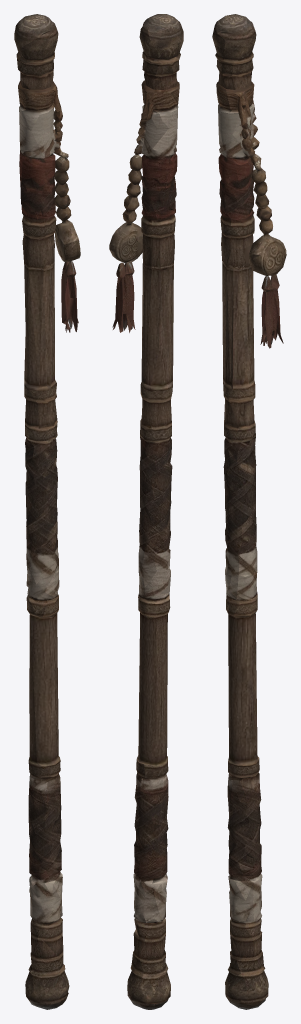
The model's file is vanara_staff.glb.
3 renders of one model, left to right at view 1: azimuth 30°, elevation 25°; view 2: azimuth 150°, elevation 25°; view 3: azimuth 330°, elevation 25°, orthographic.
Parts seen in each view (by area): view 1: Mesh_0; view 2: Mesh_0; view 3: Mesh_0.
Part boxes in pixels (x1,y1,x2,y2): Mesh_0: (14,14,80,1009); Mesh_0: (109,14,183,1009); Mesh_0: (212,14,286,1009).
Bounding box in the file's own units: 0.1211 × 1.75 × 0.0747.
1 material, 1 textured.
